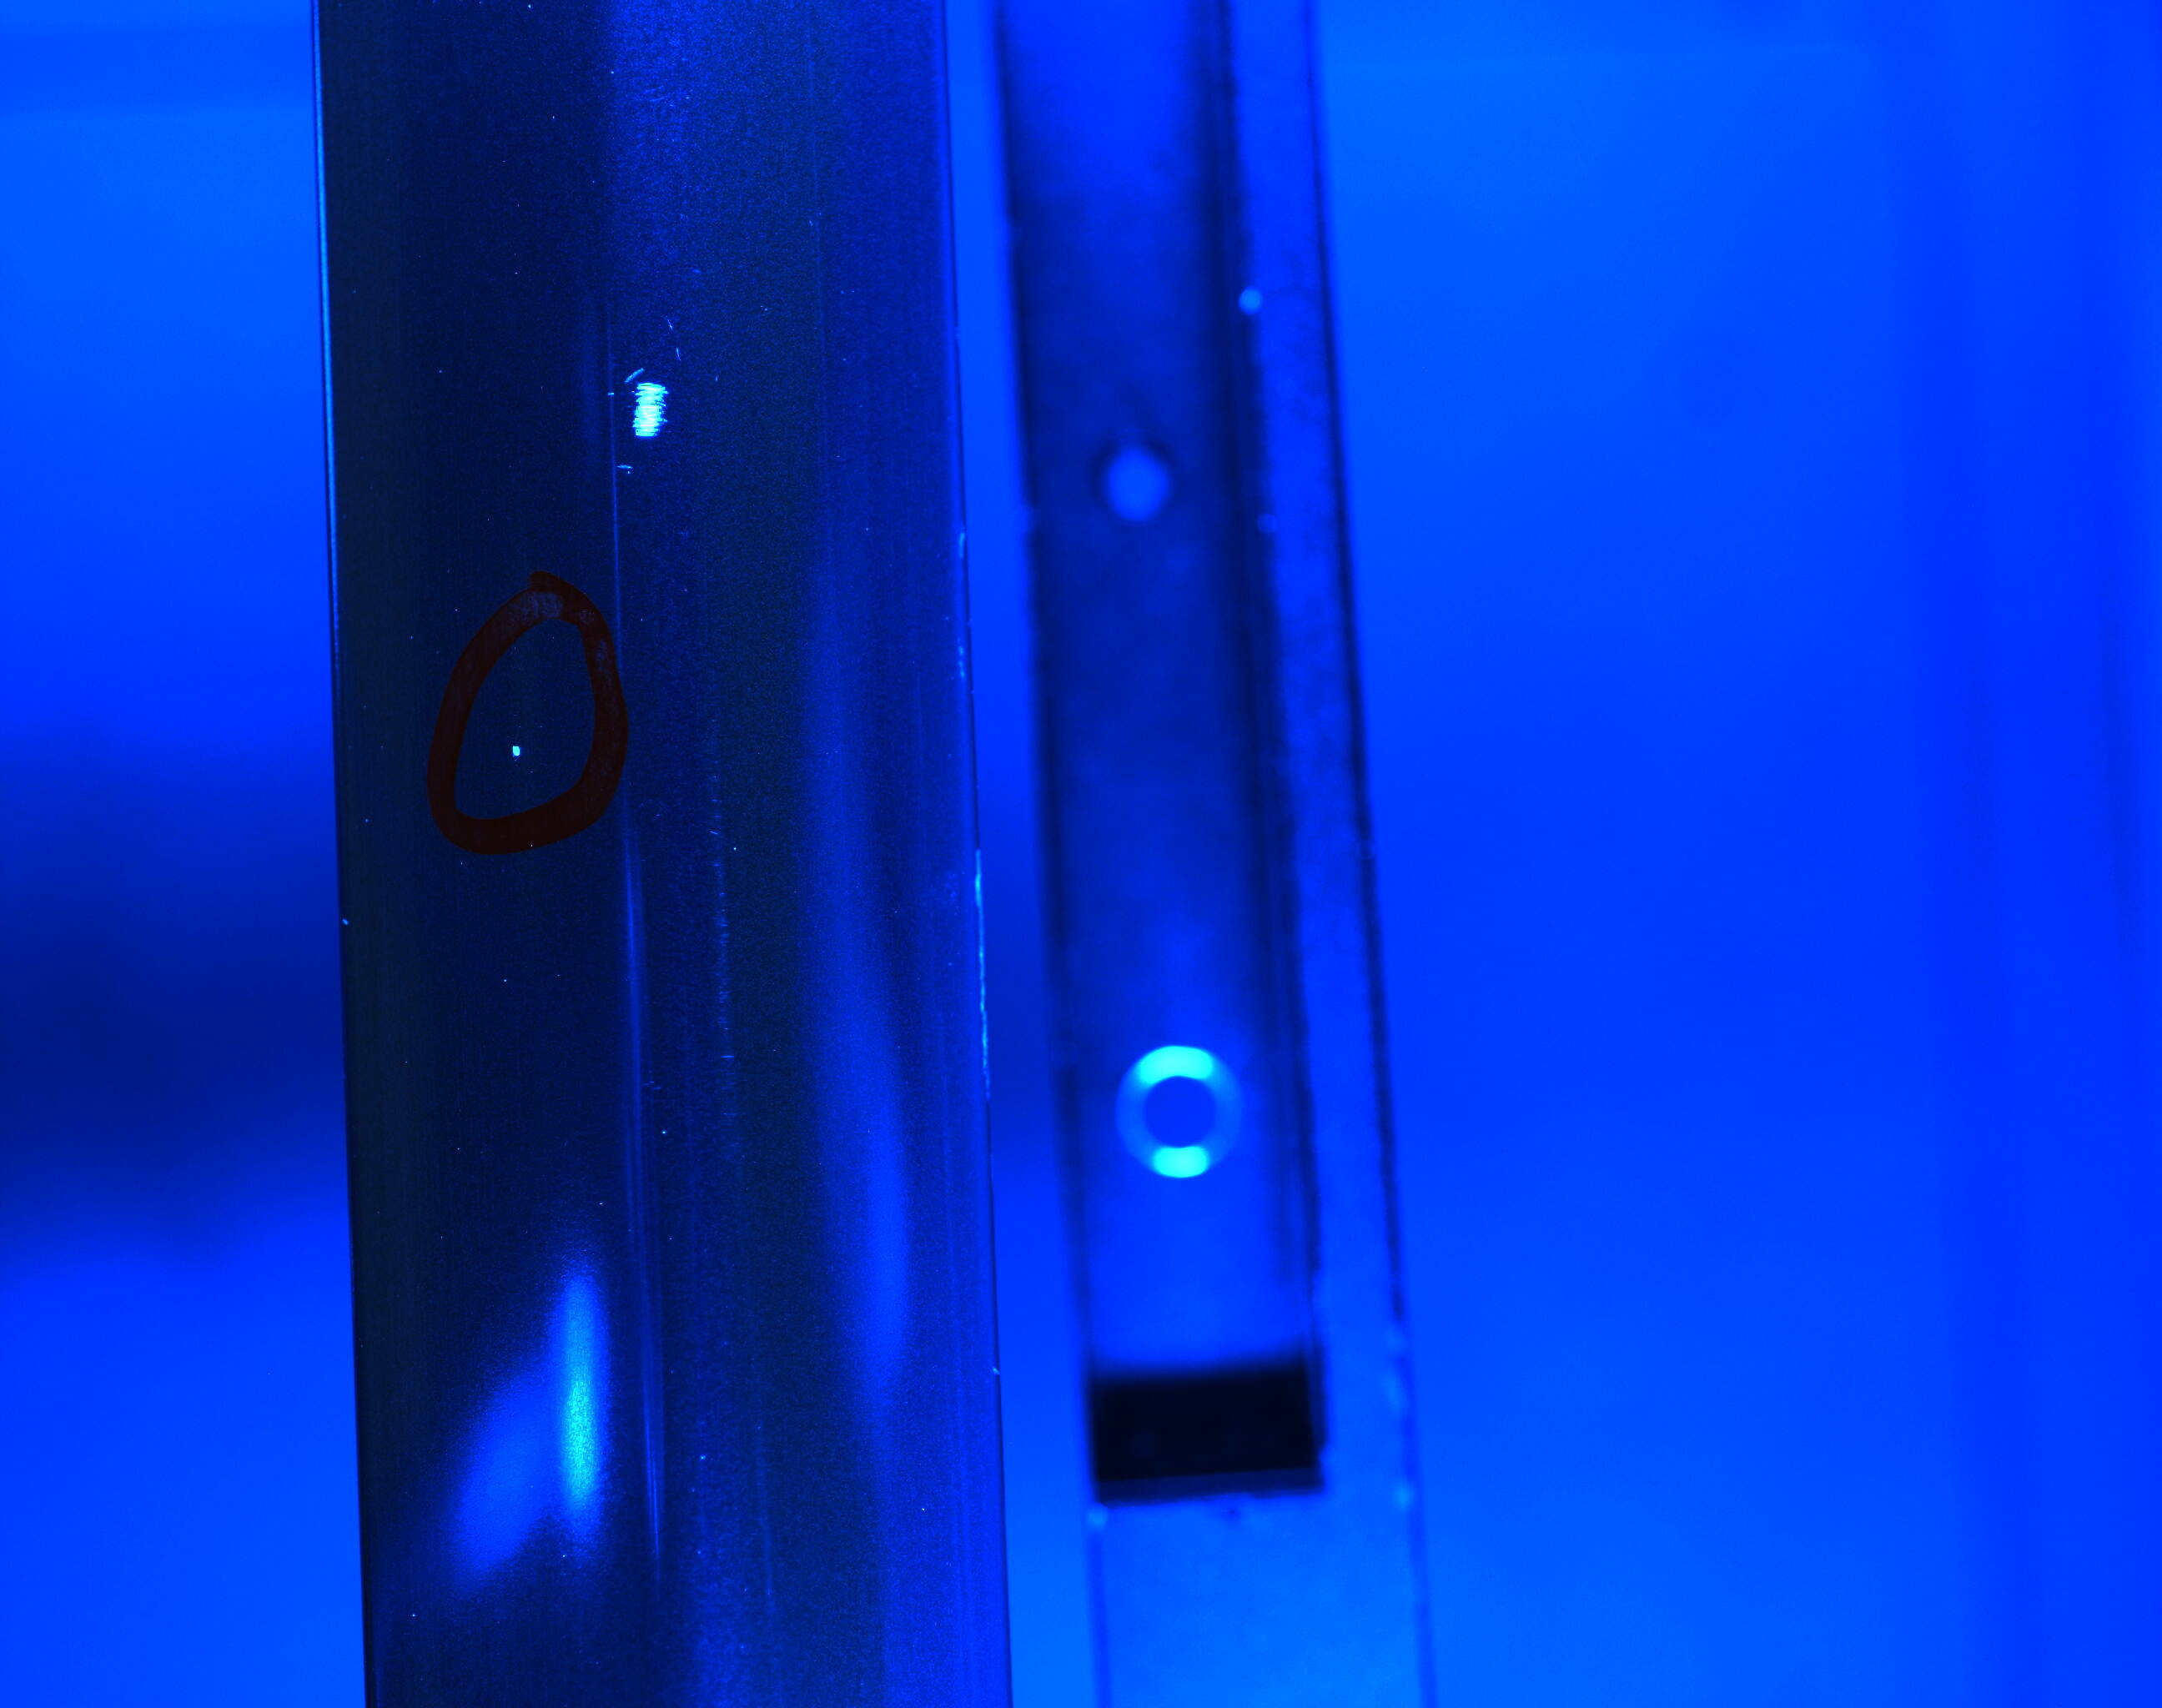NG: (602, 351, 691, 477), (965, 841, 997, 1113), (486, 721, 551, 781)
